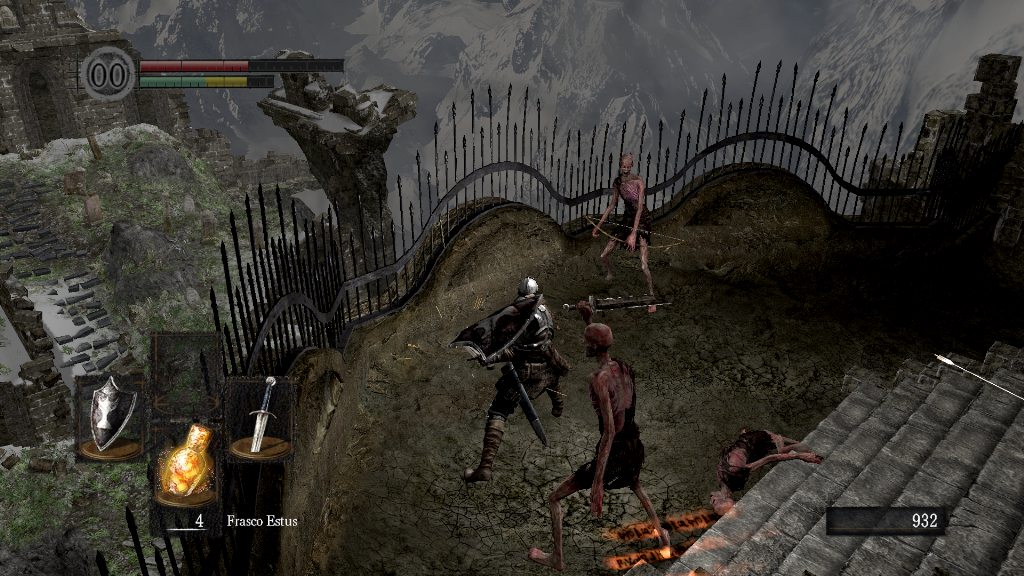health: (138, 58, 343, 71)
hollow: (529, 292, 675, 567), (587, 154, 668, 311)
humanity: (80, 45, 136, 102)
player: (446, 274, 571, 487)
souls: (825, 506, 945, 536)
stamina: (138, 74, 274, 88)
